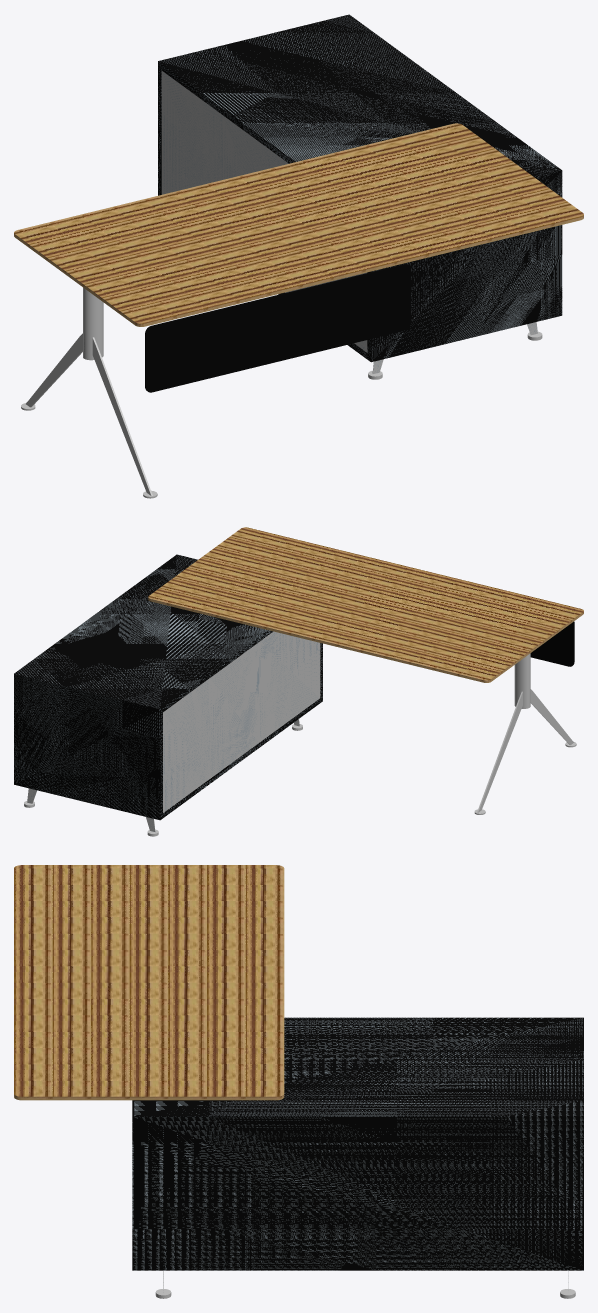
3 views of the same model, one above another, from view 1: azimuth 30°, elevation 25°; view 2: azimuth 150°, elevation 25°; view 3: azimuth 270°, elevation 25° (orthographic). The views are drawn at different scales.
Visible parts, largest first — view 1: group_0, group_1 (×2), group_7, group_6, group_9, group_10; view 2: group_1 (×2), group_0, group_7, group_6, group_10, group_9; view 3: group_1, group_0.
Boxes of the visible parts, left/top/right/bottom form: group_0: left=14, top=123, right=583, bottom=326; group_1 (×2): left=158, top=14, right=562, bottom=362; group_7: left=146, top=264, right=410, bottom=392; group_6: left=83, top=287, right=103, bottom=360; group_9: left=92, top=337, right=152, bottom=495; group_10: left=26, top=333, right=82, bottom=407; group_1 (×2): left=14, top=554, right=322, bottom=820; group_0: left=148, top=527, right=583, bottom=682; group_7: left=530, top=621, right=574, bottom=666; group_6: left=514, top=653, right=530, bottom=708; group_10: left=477, top=691, right=522, bottom=812; group_9: left=530, top=689, right=573, bottom=744; group_1: left=132, top=1017, right=583, bottom=1270; group_0: left=14, top=865, right=284, bottom=1100.
Bounding box in the file's own units: 76 × 73.82 × 27.01.
